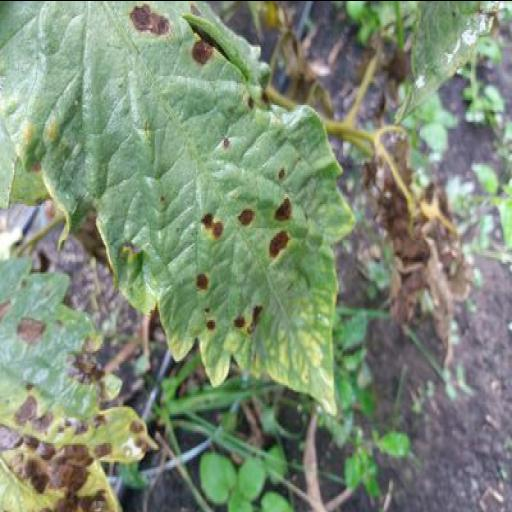Early Blight: (16, 2, 358, 418)
